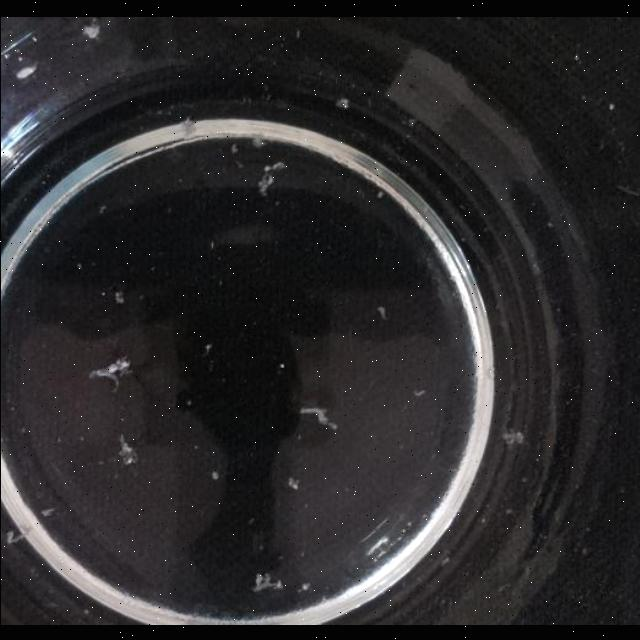Fibre: (86, 355, 132, 391), (254, 160, 286, 196), (298, 405, 336, 429), (115, 432, 138, 466), (252, 570, 282, 592), (5, 527, 25, 543), (250, 136, 266, 148), (39, 507, 55, 518), (286, 476, 298, 488), (376, 305, 386, 319), (412, 386, 426, 396), (230, 142, 238, 154)
microbeads: (502, 429, 524, 446), (82, 21, 100, 39), (335, 96, 349, 108), (113, 290, 123, 302), (298, 581, 310, 591), (202, 342, 212, 352), (210, 468, 218, 478), (375, 188, 383, 198), (96, 204, 105, 212), (572, 53, 580, 61), (208, 239, 214, 249), (185, 397, 192, 405), (607, 102, 613, 110), (546, 219, 552, 227), (277, 362, 283, 368)
